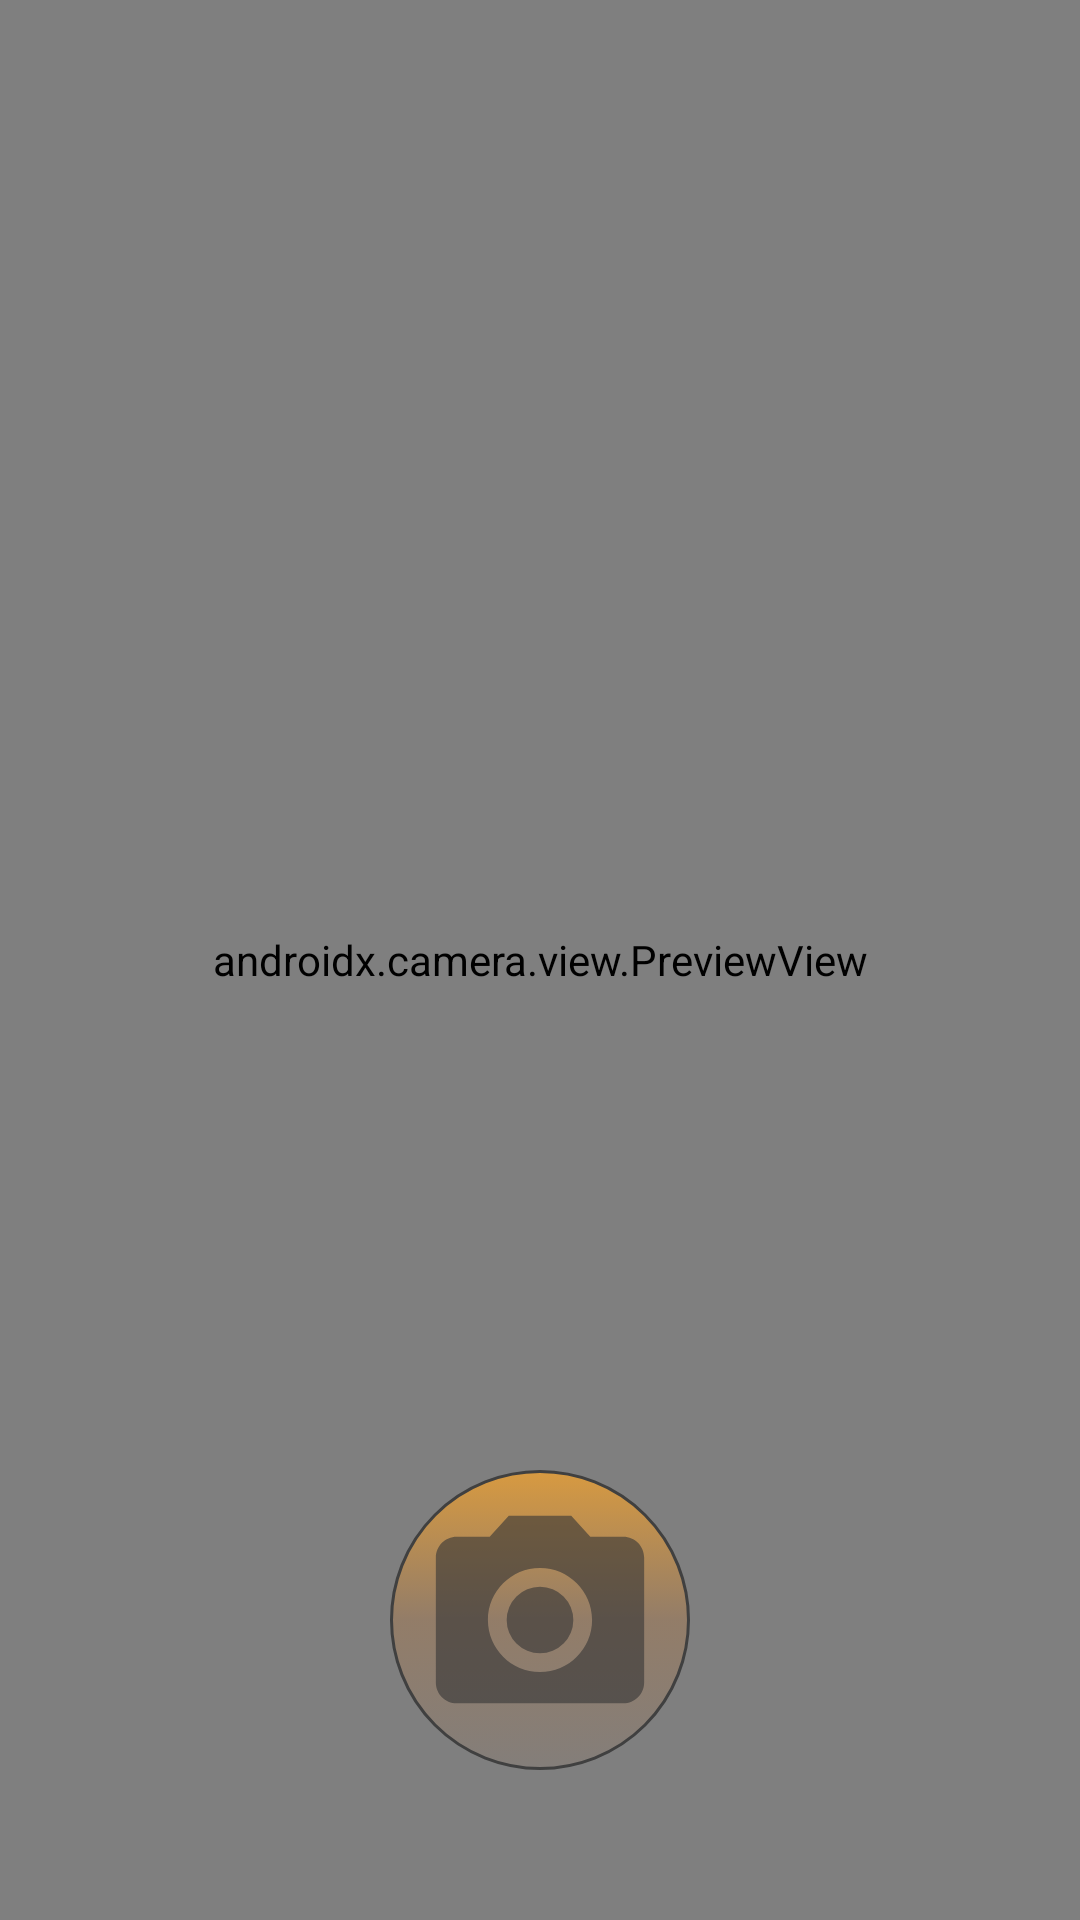

Named icons in this screenshot (1080w x 1920h) and their centers, (x,y):
photo: (540,1620)
